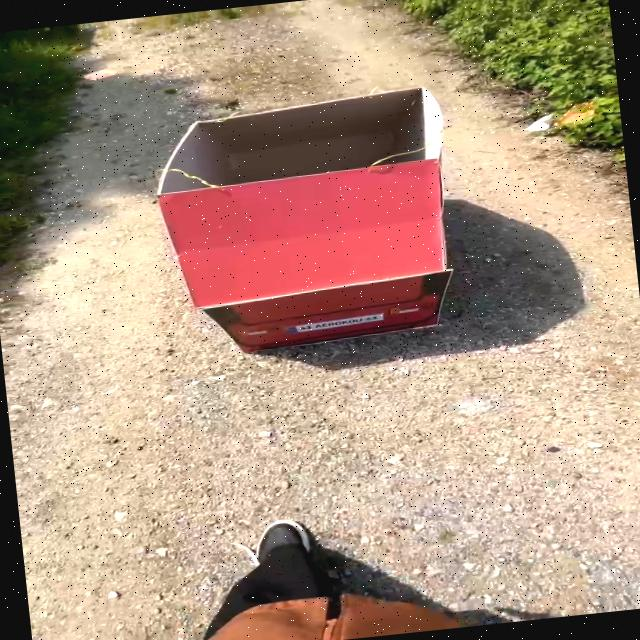red_car: (100, 65, 522, 396)
